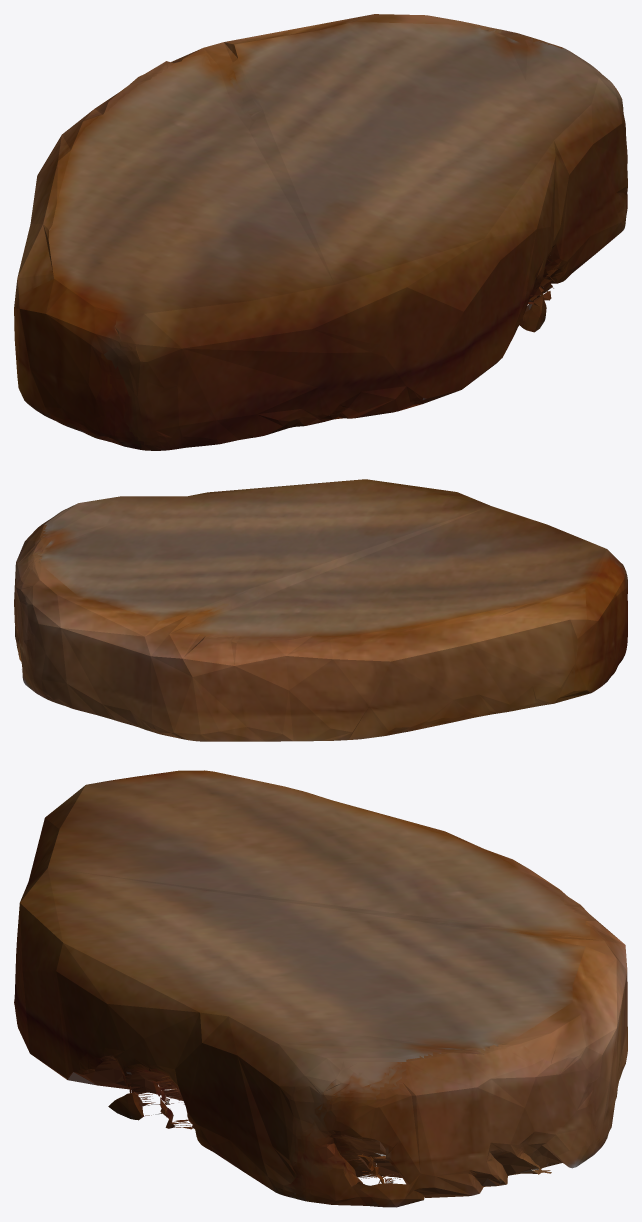
File: DecorationCurvyWoodenBox.obj
The picture shows the model from 3 angles, top to bottom: view 1: azimuth 30°, elevation 25°; view 2: azimuth 150°, elevation 25°; view 3: azimuth 270°, elevation 25°; orthographic projection. The views are drawn at different scales.
Bounding box in the file's own units: 102 × 19.81 × 81.21.
Materials: 1 (1 with a texture image).
